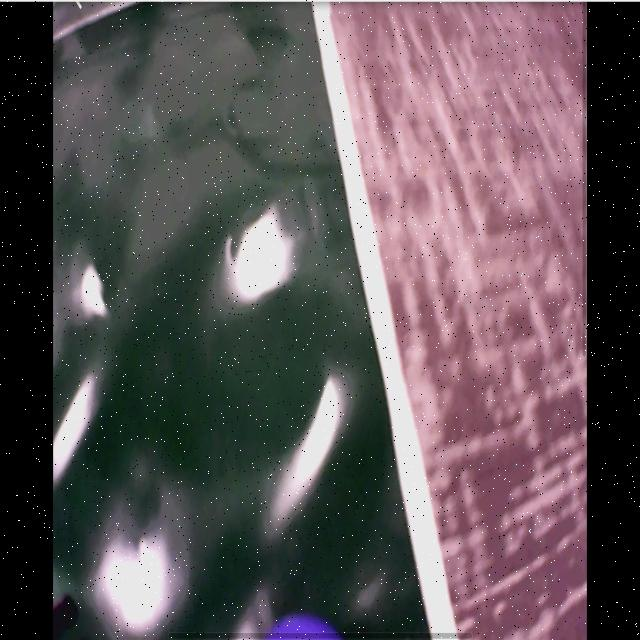ball: (263, 609, 338, 640)
